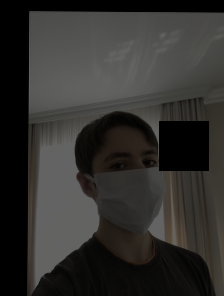with_mask: (89, 141, 165, 236)
